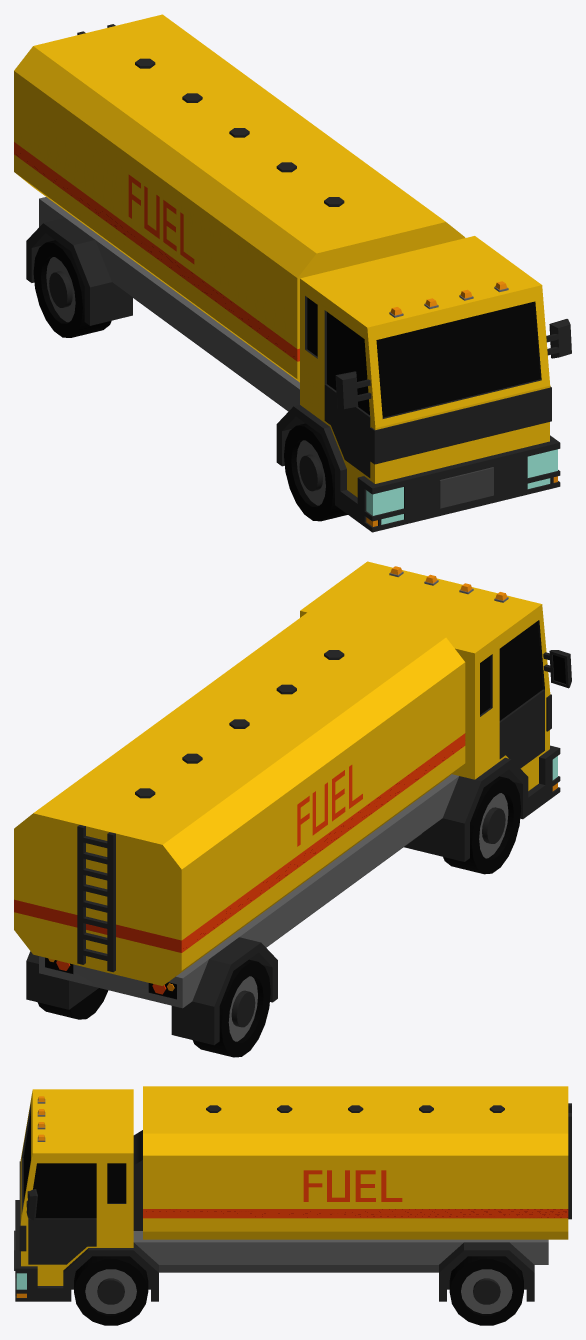
File: Fuel Truck.fbx
3 views of the same model, one above another, from view 1: azimuth 30°, elevation 25°; view 2: azimuth 150°, elevation 25°; view 3: azimuth 270°, elevation 25° (orthographic). The views are drawn at different scales.
Visible parts, largest first — view 1: Fuel_Truck; view 2: Fuel_Truck; view 3: Fuel_Truck.
Boxes of the visible parts, <box> form: Fuel_Truck: <box>14,14,571,532</box>; Fuel_Truck: <box>14,561,571,1057</box>; Fuel_Truck: <box>14,1086,571,1325</box>.
Size of the model in its own units: 248 by 249 by 689.
1 material, 1 textured.
